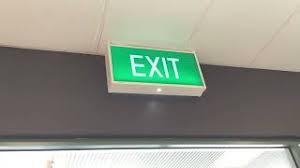lit_exit_sign: (105, 43, 205, 95)
